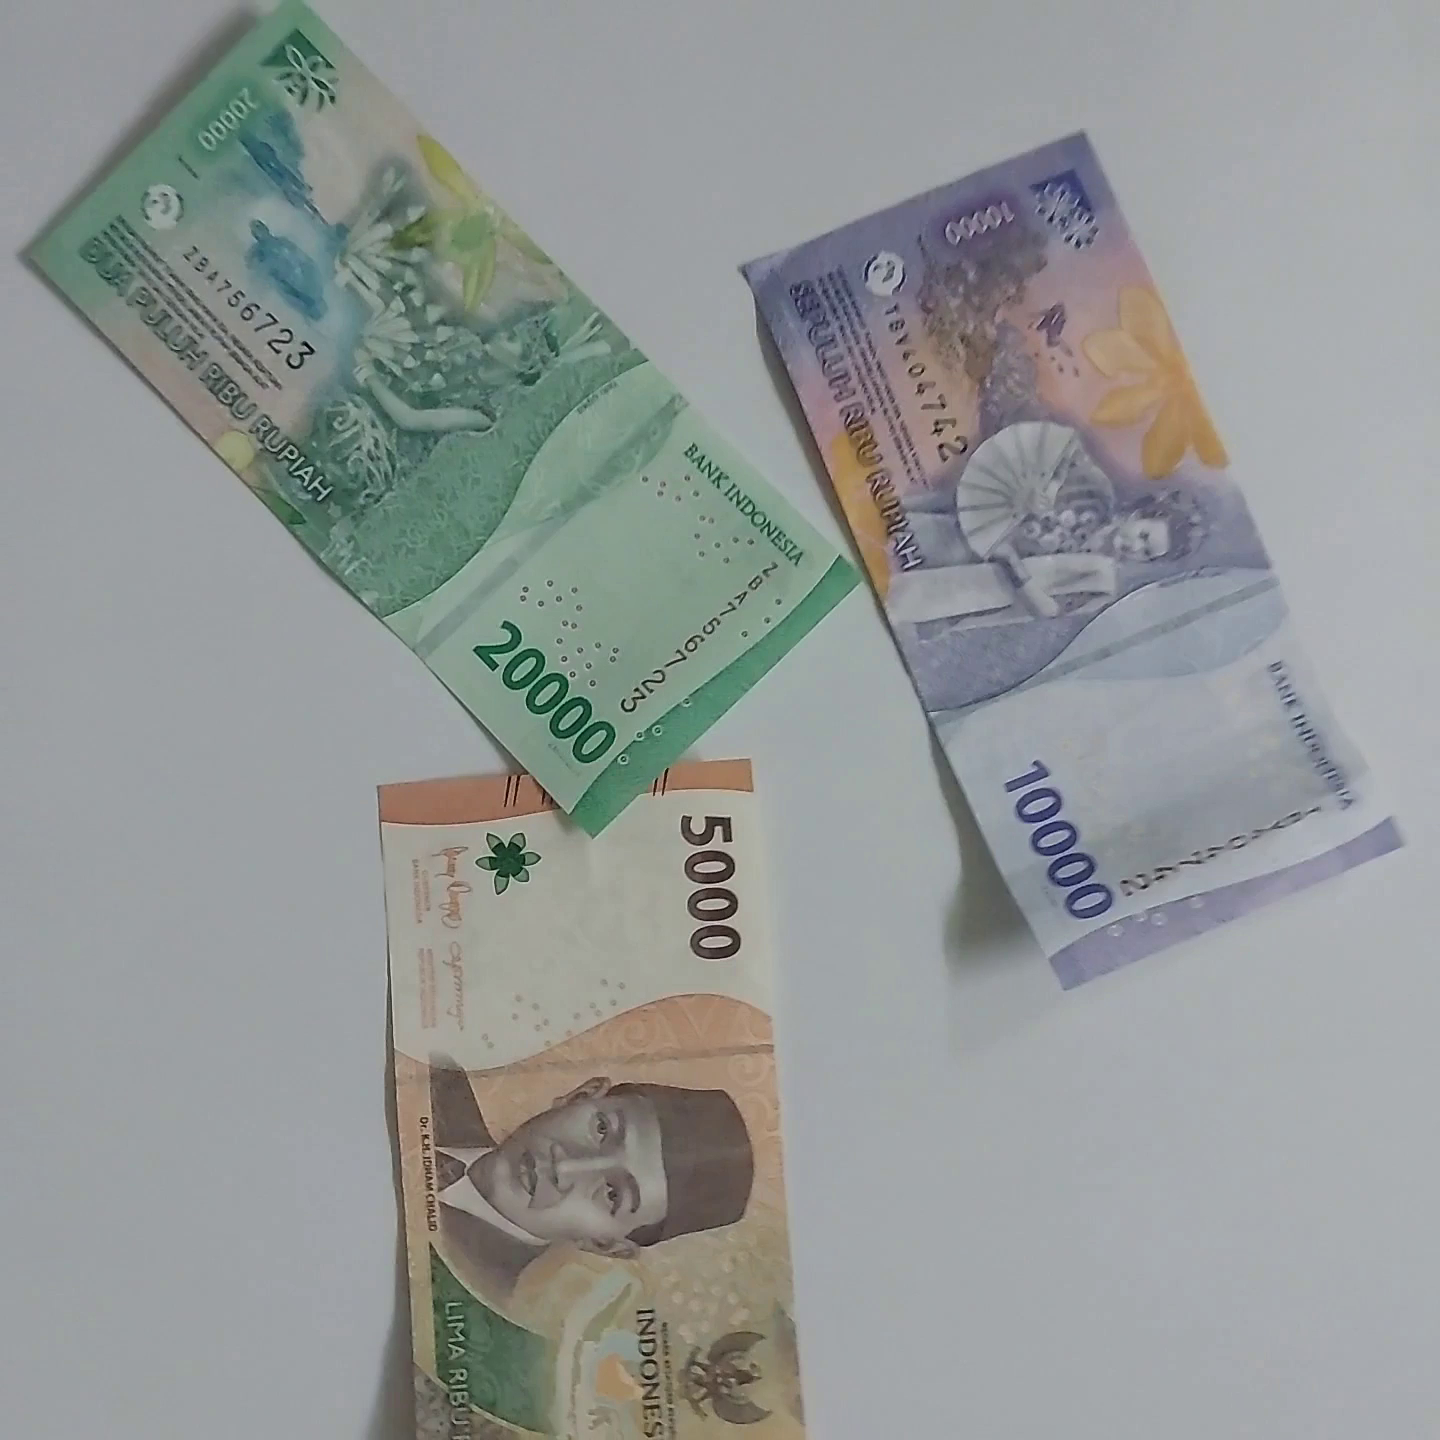10k: (708, 274, 1110, 1076)
20k: (844, 625, 1197, 1440)
5k: (338, 688, 840, 1440)
